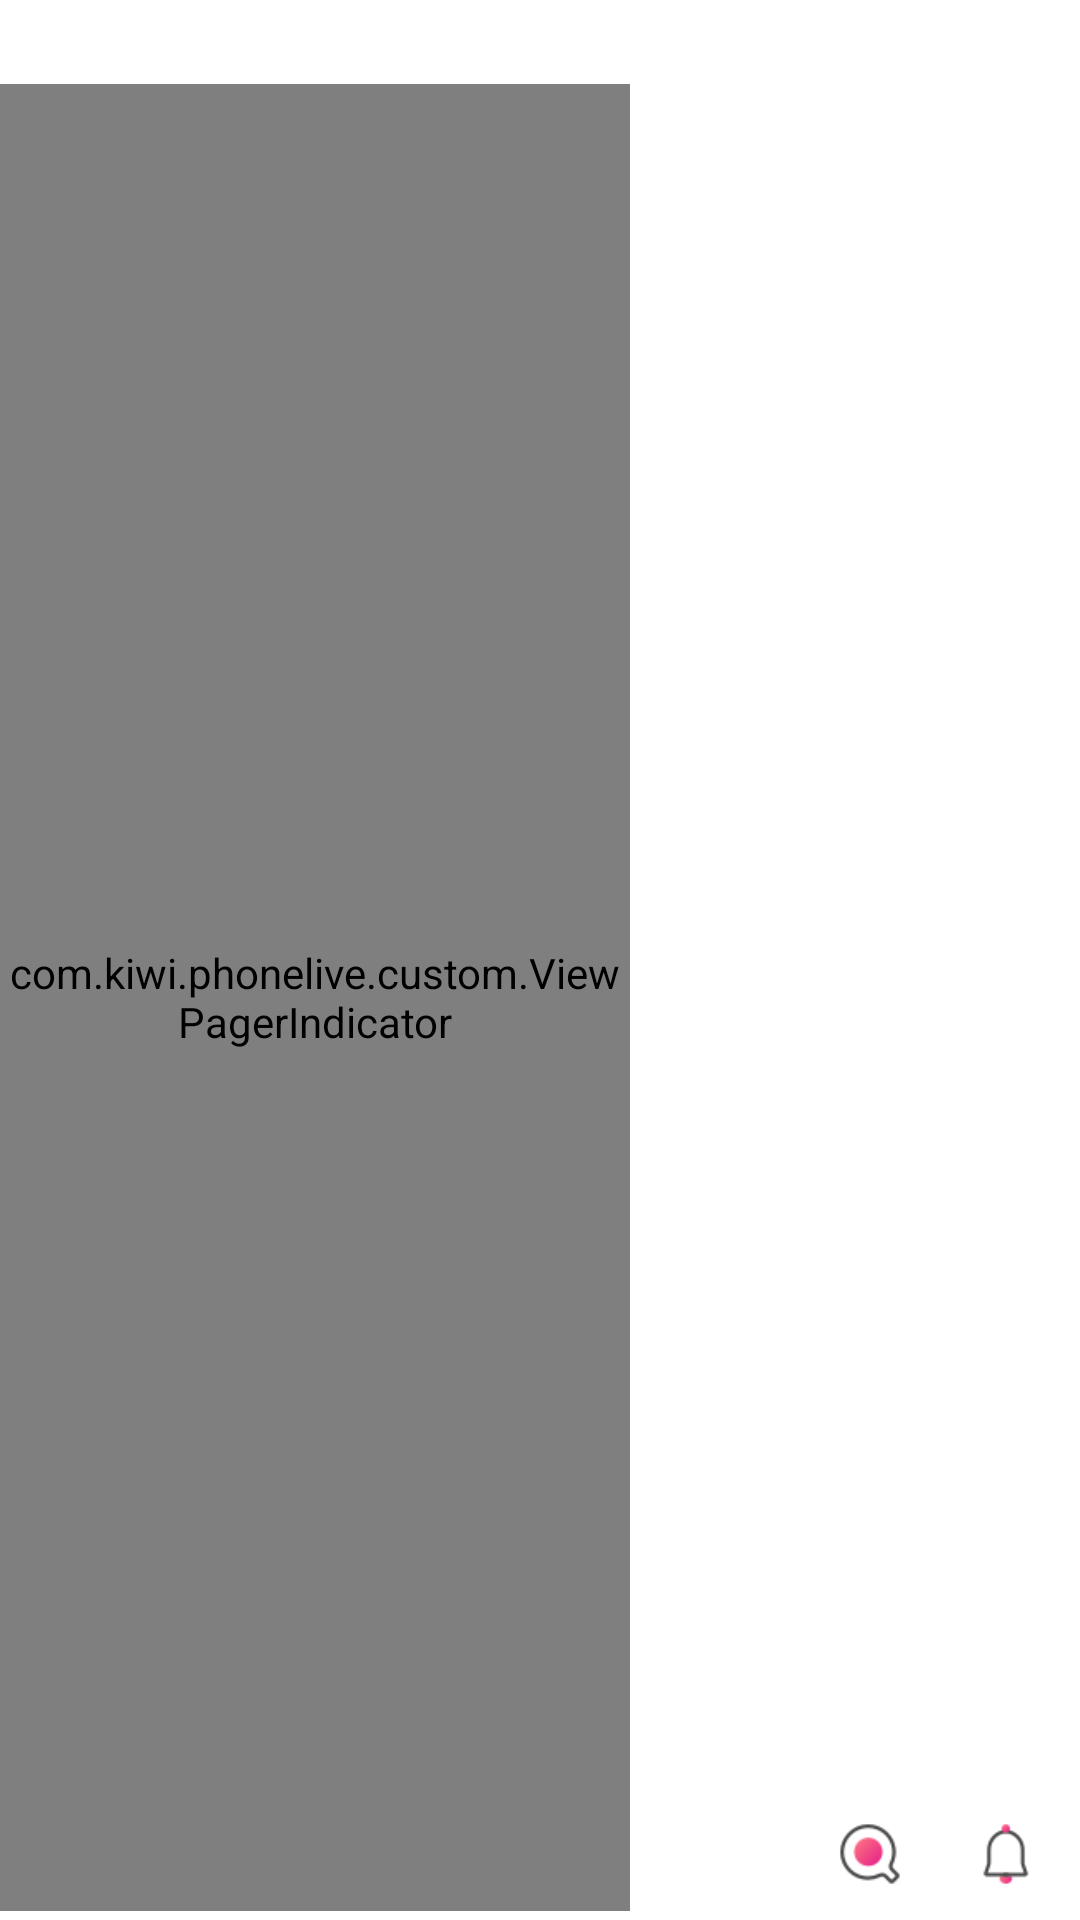

Icon bounding boxes for this 1080 × 1920 phone screenshot, format (x1, y1, x2, y2):
search: (840, 1824, 900, 1884)
